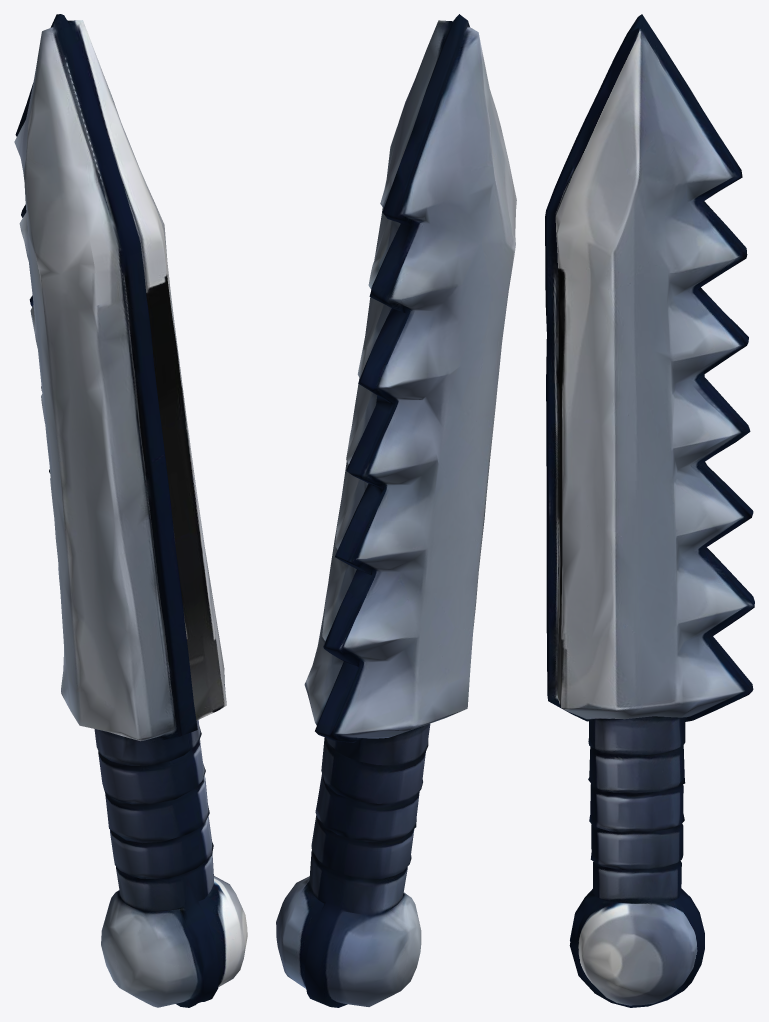
The model's file is gear_weapon_s_1.glb.
3 views of the same model, side by side, from view 1: azimuth 30°, elevation 25°; view 2: azimuth 150°, elevation 25°; view 3: azimuth 270°, elevation 25° (orthographic). The views are drawn at different scales.
Parts seen in each view (by area): view 1: Weapon; view 2: Weapon; view 3: Weapon.
Boxes of the visible parts, x1,y1,x2,y2 form: Weapon: [14, 14, 247, 1007]; Weapon: [276, 14, 516, 1007]; Weapon: [545, 14, 754, 1007].
Size of the model in its own units: 0.215 by 0.9808 by 0.1992.
Materials: 1 (1 with a texture image).
